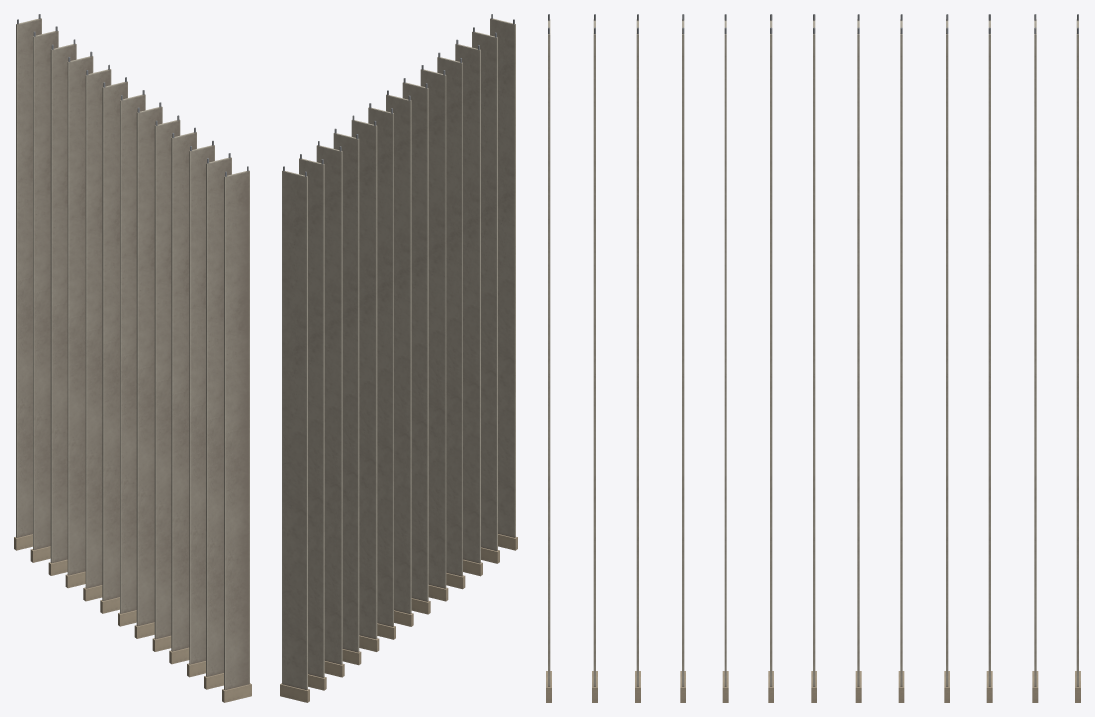
Rendered from SM_Curtain_00.fbx.
The picture shows the model from 3 angles, left to right: view 1: azimuth 30°, elevation 25°; view 2: azimuth 150°, elevation 25°; view 3: azimuth 270°, elevation 25°; orthographic projection. The views are drawn at different scales.
Parts seen in each view (by area): view 1: SM_Curtain_00; view 2: SM_Curtain_00; view 3: SM_Curtain_00.
Boxes of the visible parts, x1,y1,x2,y2 form: SM_Curtain_00: (14,14,251,702); SM_Curtain_00: (280,14,517,702); SM_Curtain_00: (546,14,1080,702).
Size of the model in its own units: 22.93 by 304 by 422.
Materials: 1 (1 with a texture image).
